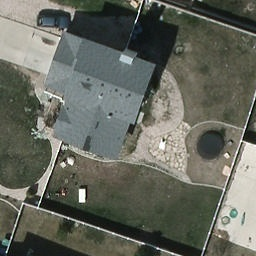car: (37, 16, 71, 28)
